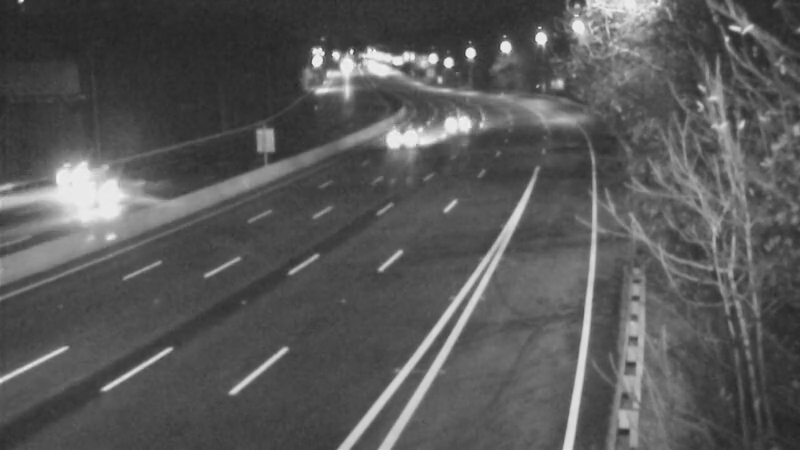vehicle: (27, 135, 107, 215), (76, 152, 156, 232), (435, 97, 485, 147), (377, 107, 427, 157)
